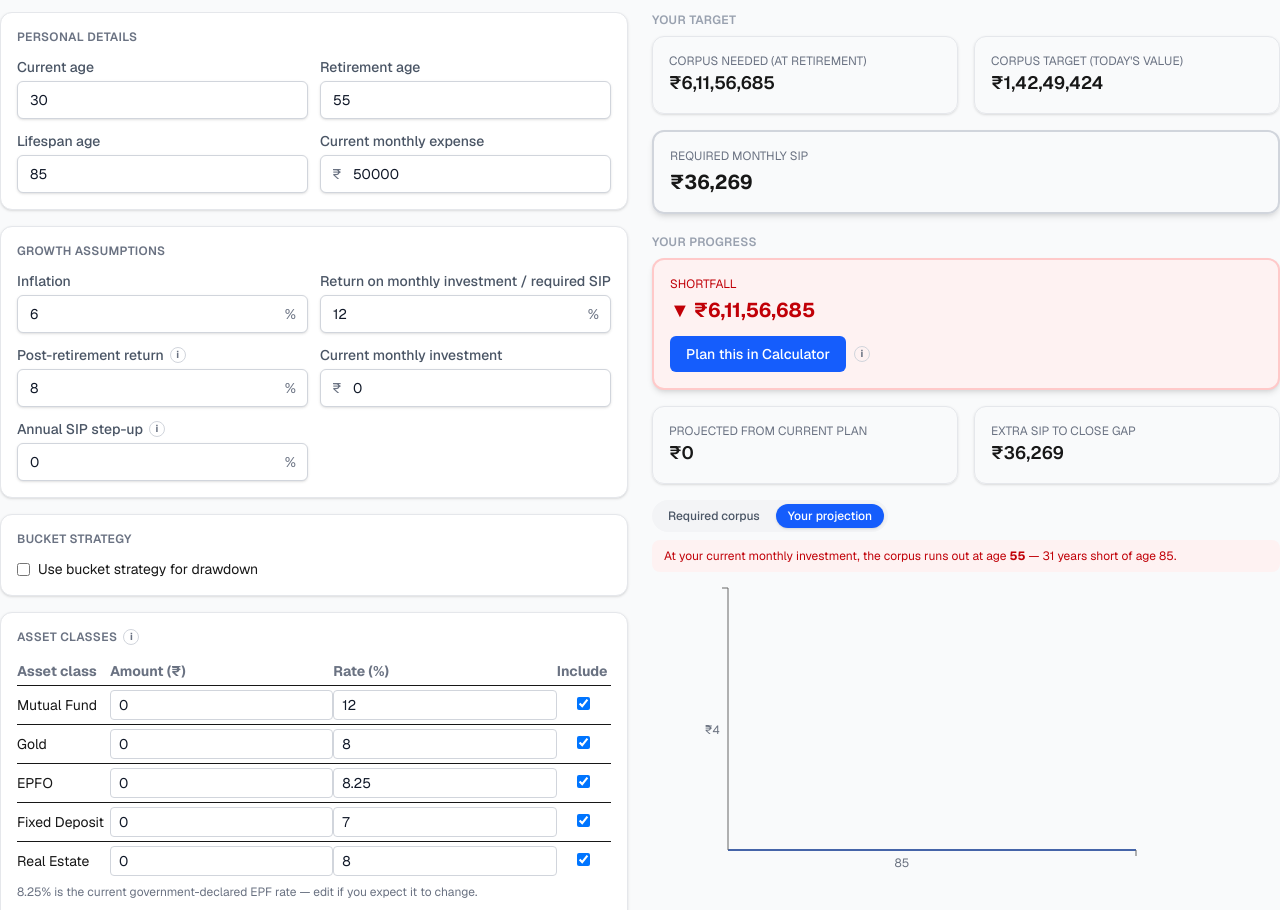
Test: RetirementTab drawdown views › says so plainly when the projection covers the whole retirement
Replace the text in the number field labelled "Current monthly investment" with "500000". click: (466, 388)
box: [320,369,611,407]
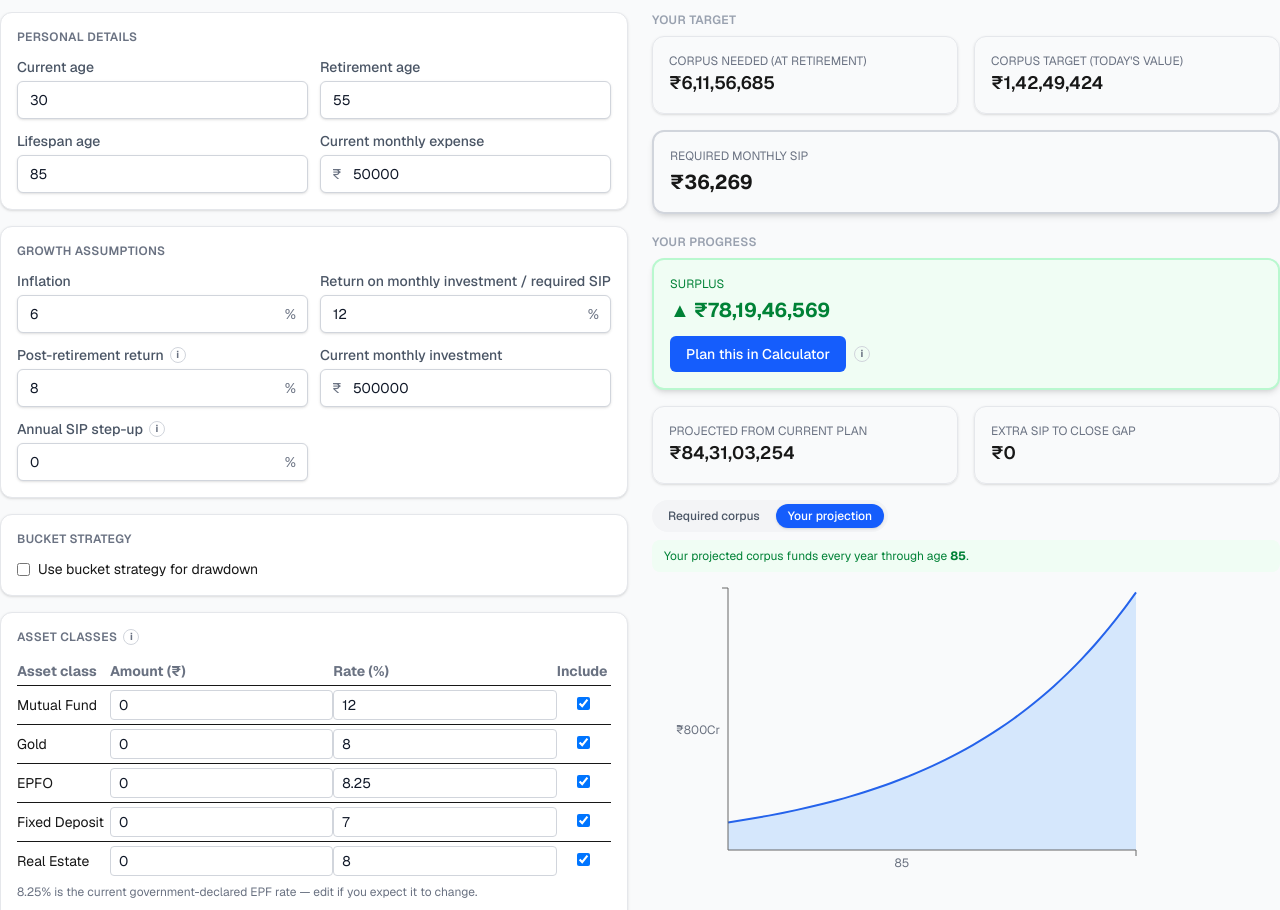
Expected: the text "Your projected corpus funds every year through age 85." is shown, [652,540,1279,572]
Expected: the text "runs out at age" is gone
